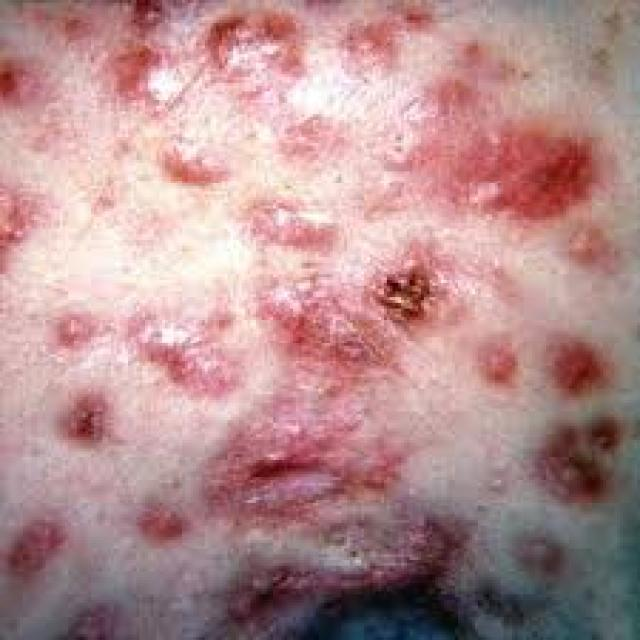Acne: (195, 380, 414, 530), (463, 117, 605, 229), (120, 292, 248, 399), (253, 274, 375, 372), (526, 408, 640, 506), (205, 9, 314, 103), (370, 238, 460, 336), (239, 190, 345, 256), (103, 40, 187, 122), (0, 160, 55, 274), (0, 512, 79, 585), (270, 104, 350, 176), (542, 327, 616, 401), (155, 133, 233, 189), (56, 382, 120, 450), (557, 218, 629, 276), (505, 522, 571, 584), (335, 15, 395, 78), (54, 592, 128, 640), (108, 0, 207, 35), (472, 335, 528, 395), (0, 50, 49, 111), (131, 500, 195, 546), (426, 74, 486, 119), (46, 306, 98, 352)
